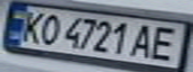1: (109, 19, 133, 56)
2: (90, 17, 115, 54)
4: (60, 15, 84, 49)
7: (78, 16, 96, 52)
A: (127, 21, 160, 60)
E: (145, 24, 187, 62)
K: (15, 8, 48, 44)
O: (33, 11, 63, 46)
